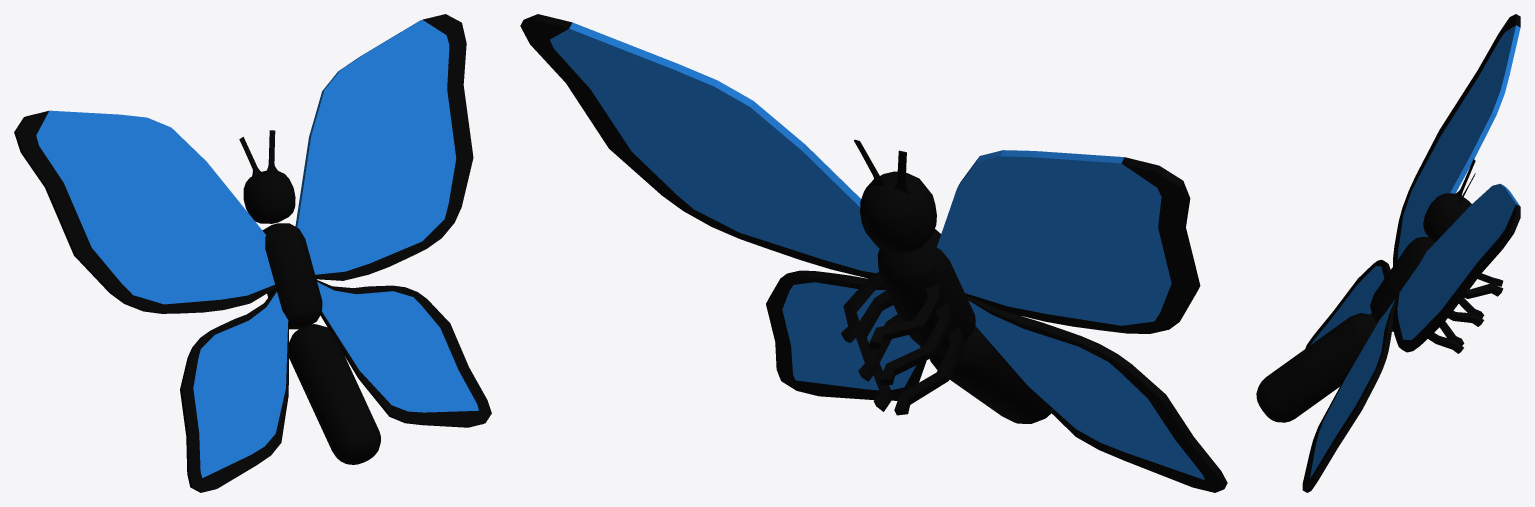
The model's file is butterfly.glb.
The picture shows the model from 3 angles, left to right: view 1: azimuth 30°, elevation 25°; view 2: azimuth 150°, elevation 25°; view 3: azimuth 270°, elevation 25°; orthographic projection. The views are drawn at different scales.
Visible parts, largest first — view 1: Plane.173, Cylinder.375; view 2: Plane.173, Cylinder.375, Cube.129; view 3: Plane.173, Cylinder.375, Cube.129.
Part boxes in pixels (x1,y1,x2,y2): Plane.173: [14, 14, 491, 492]; Cylinder.375: [239, 130, 380, 464]; Plane.173: [520, 14, 1227, 492]; Cylinder.375: [854, 139, 1051, 423]; Cube.129: [841, 272, 964, 415]; Plane.173: [1302, 14, 1520, 492]; Cylinder.375: [1256, 159, 1475, 422]; Cube.129: [1428, 273, 1503, 353].
Size of the model in its own units: 2.38 by 1.61 by 1.24.
Materials: 1 (1 with a texture image).
